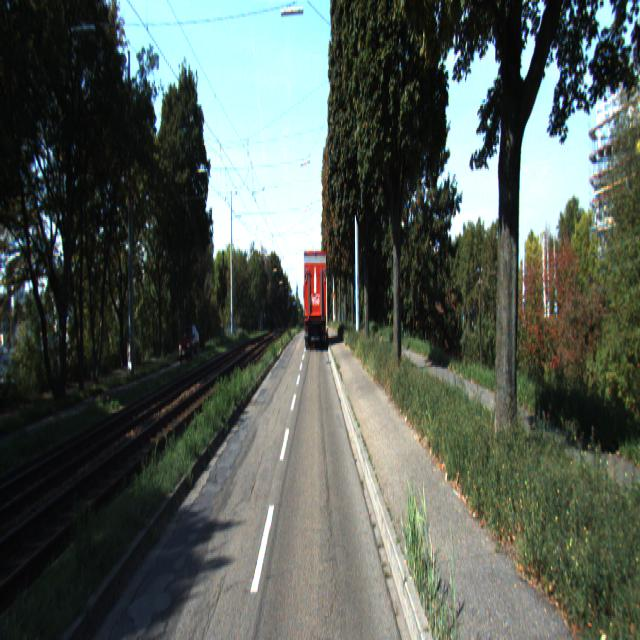Car: (301, 249, 327, 352), (178, 327, 200, 366)
